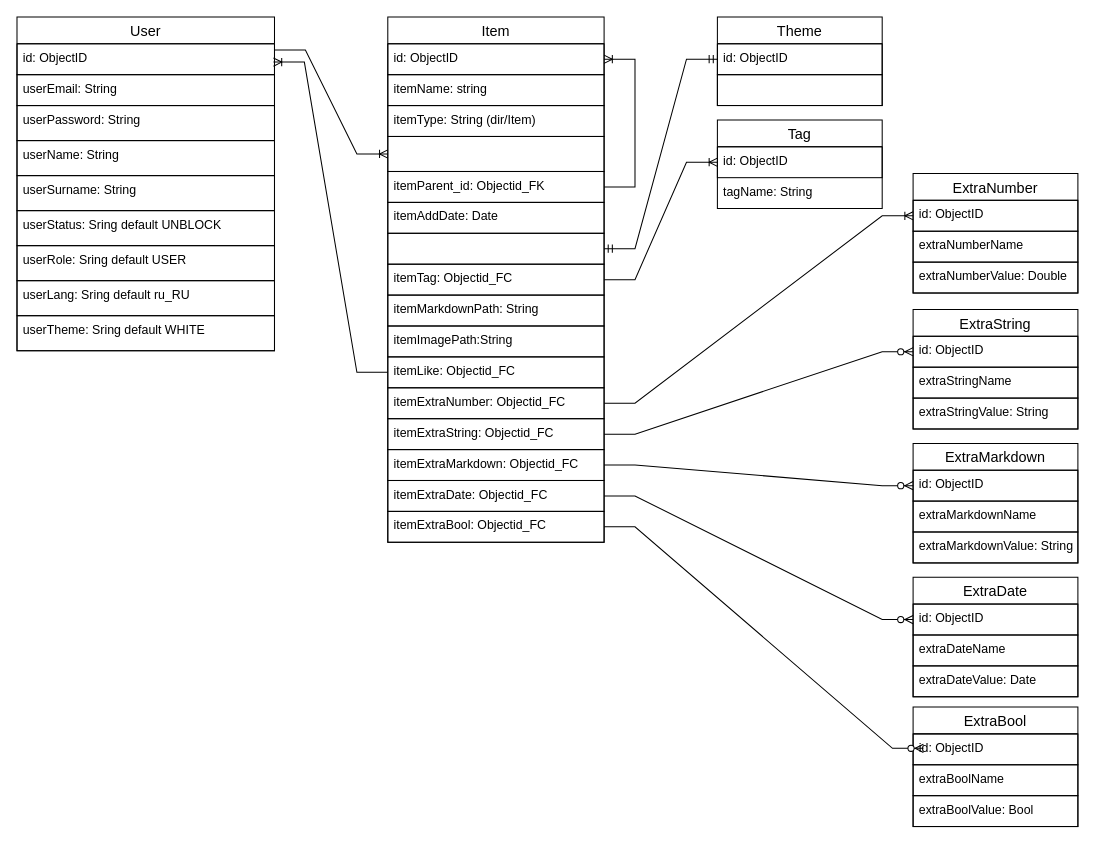
The diagram is 1095 pixels wide and 844 high, and some of its shapes have lost their labels. The box of each missing label's shape, as (x1, y1, x2, y2) in pixels:
itemTheme: Objectid_FC: (387, 232, 604, 264)
themeName: String: (716, 74, 882, 106)
user_id: Objectid_FK: (387, 135, 604, 171)
